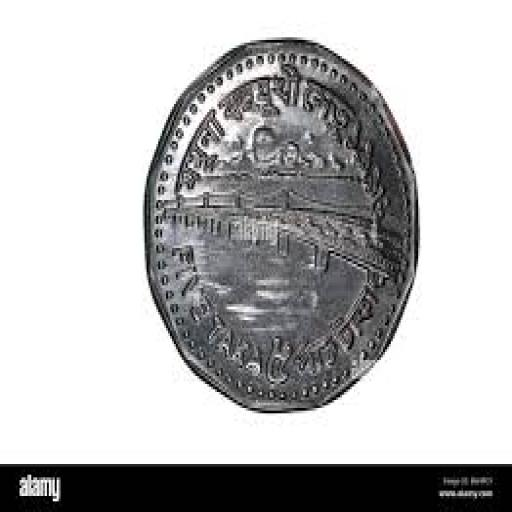5taka: (145, 40, 416, 408)
